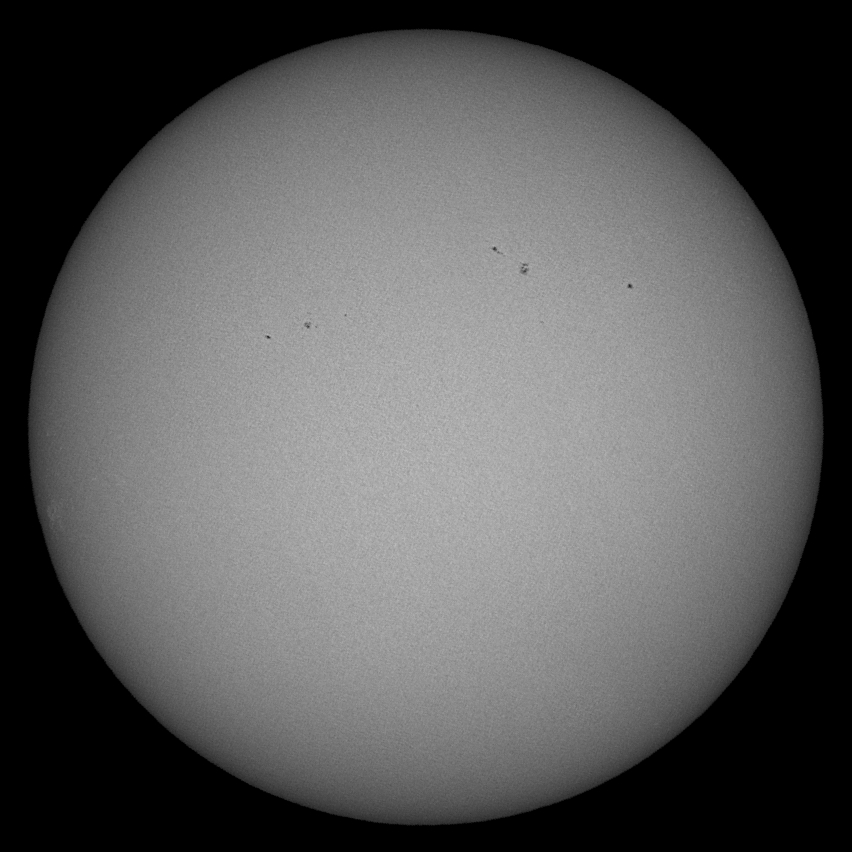sunspot: (299, 313, 316, 332), (515, 258, 532, 276), (489, 240, 502, 258), (262, 331, 276, 343), (624, 279, 637, 291)
